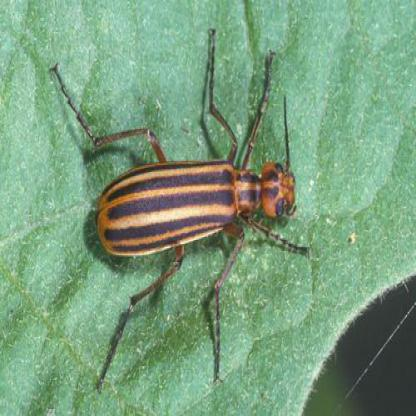blister beetle: (93, 32, 314, 380)
